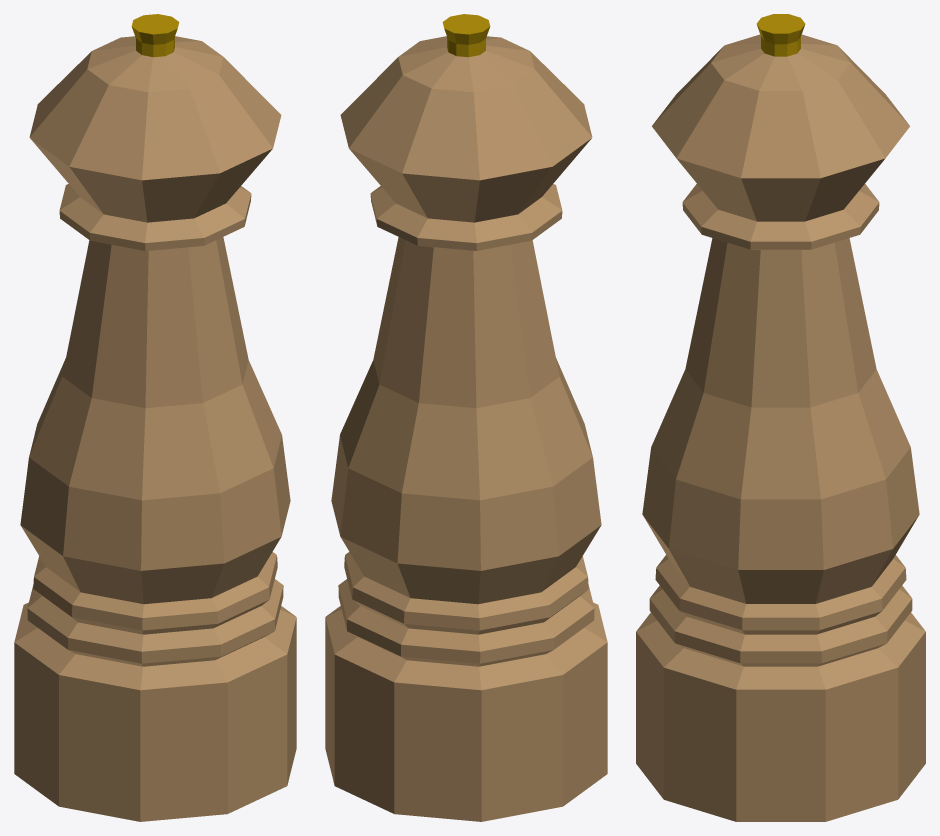
The model's file is mod_pepper_mill.fbx.
3 views of the same model, side by side, from view 1: azimuth 30°, elevation 25°; view 2: azimuth 150°, elevation 25°; view 3: azimuth 270°, elevation 25° (orthographic).
Parts seen in each view (by area): view 1: mod_pepper_mill; view 2: mod_pepper_mill; view 3: mod_pepper_mill.
Boxes of the visible parts, bbox=[...] form: mod_pepper_mill: bbox=[14, 14, 296, 821]; mod_pepper_mill: bbox=[325, 14, 607, 821]; mod_pepper_mill: bbox=[636, 14, 925, 821].
Bounding box in the file's own units: 24.86 × 73.66 × 26.14.
